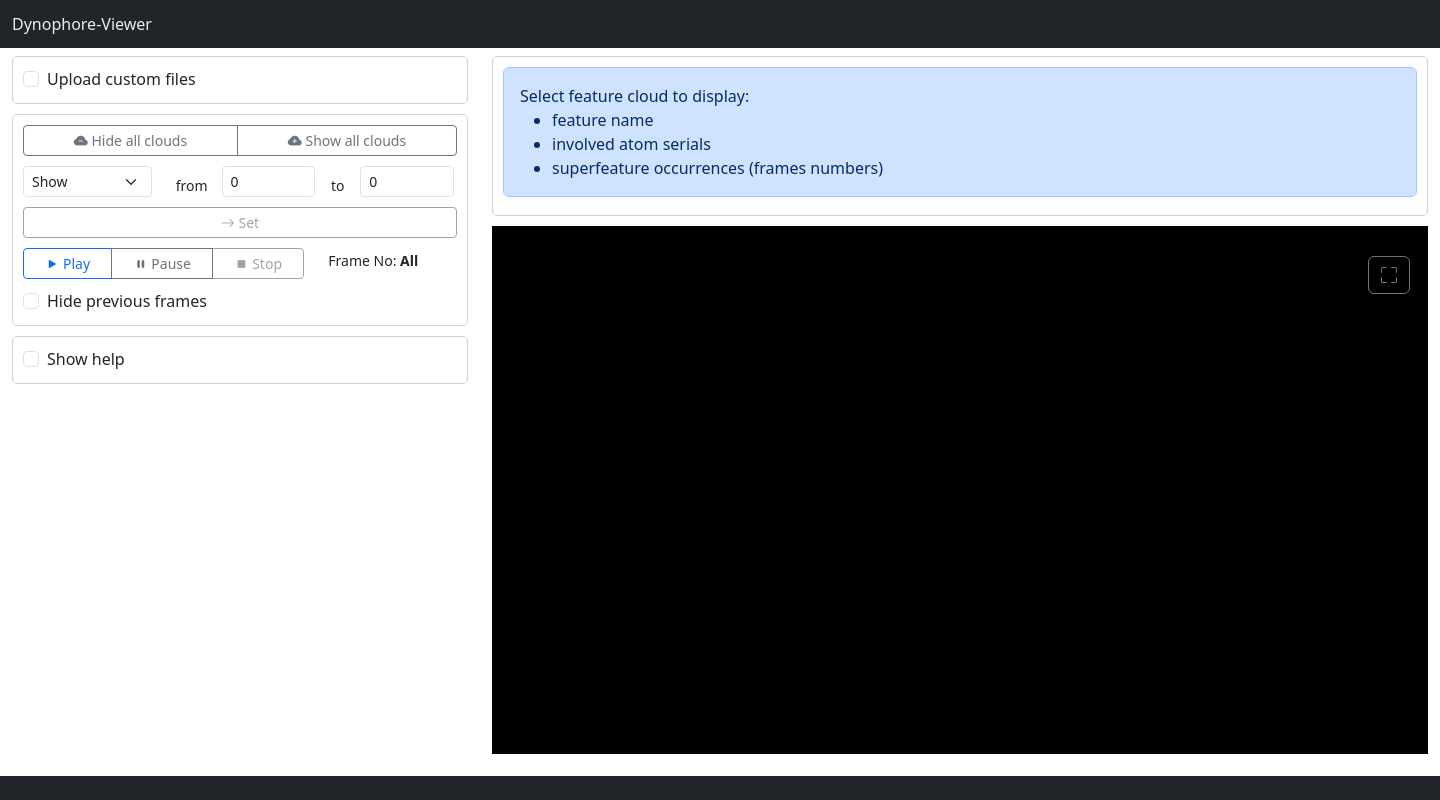
Test: Tests of Display actions, buttons, menu and input group with different values › Should check the buttons Frame block
Step 1. Click the button titled "Play" → (68, 264), box 23,248 -> 112,279
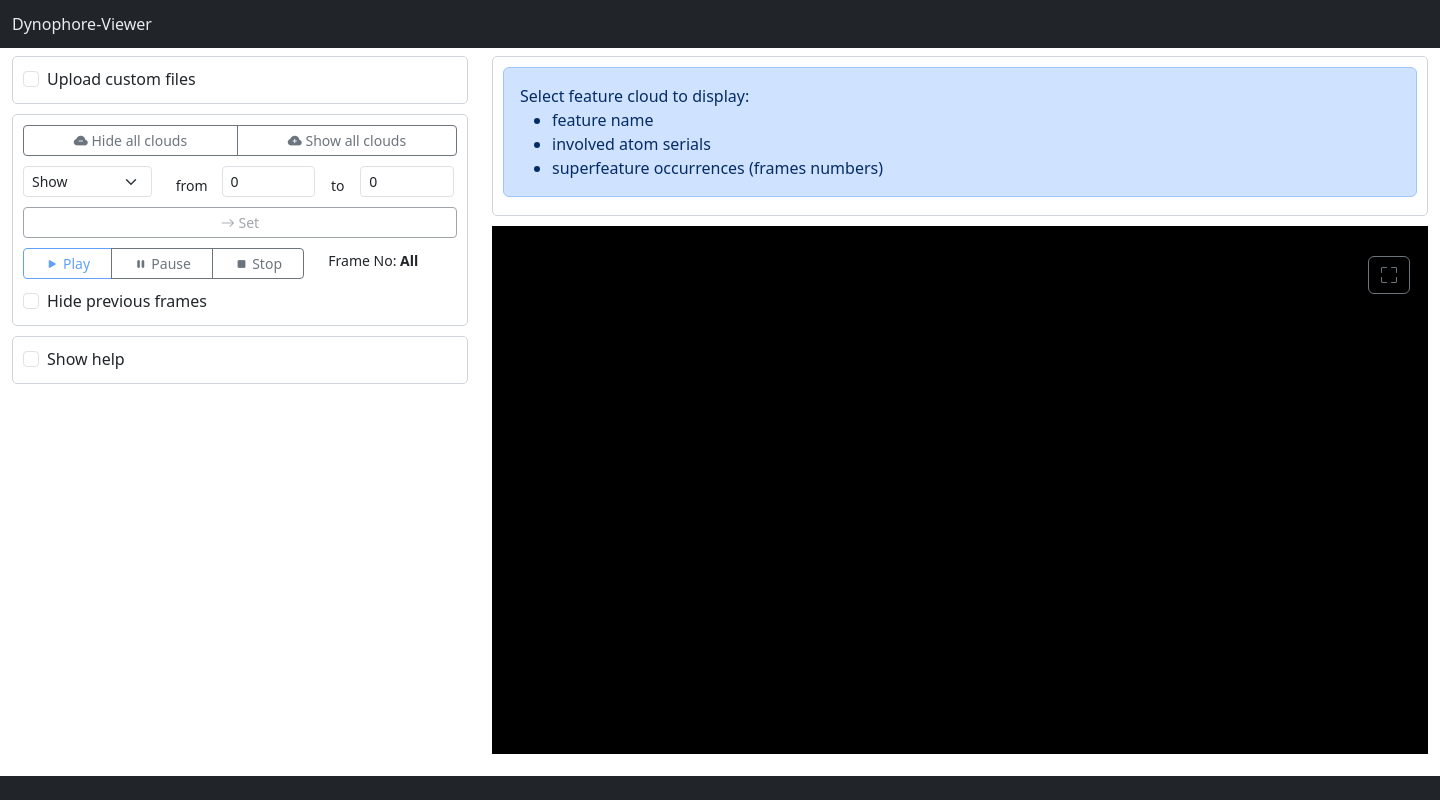
Expected: the button titled "Play" is disabled, 23,248 -> 112,279
Step 2. Click the button titled "Pause" → (162, 264), box 111,248 -> 213,279
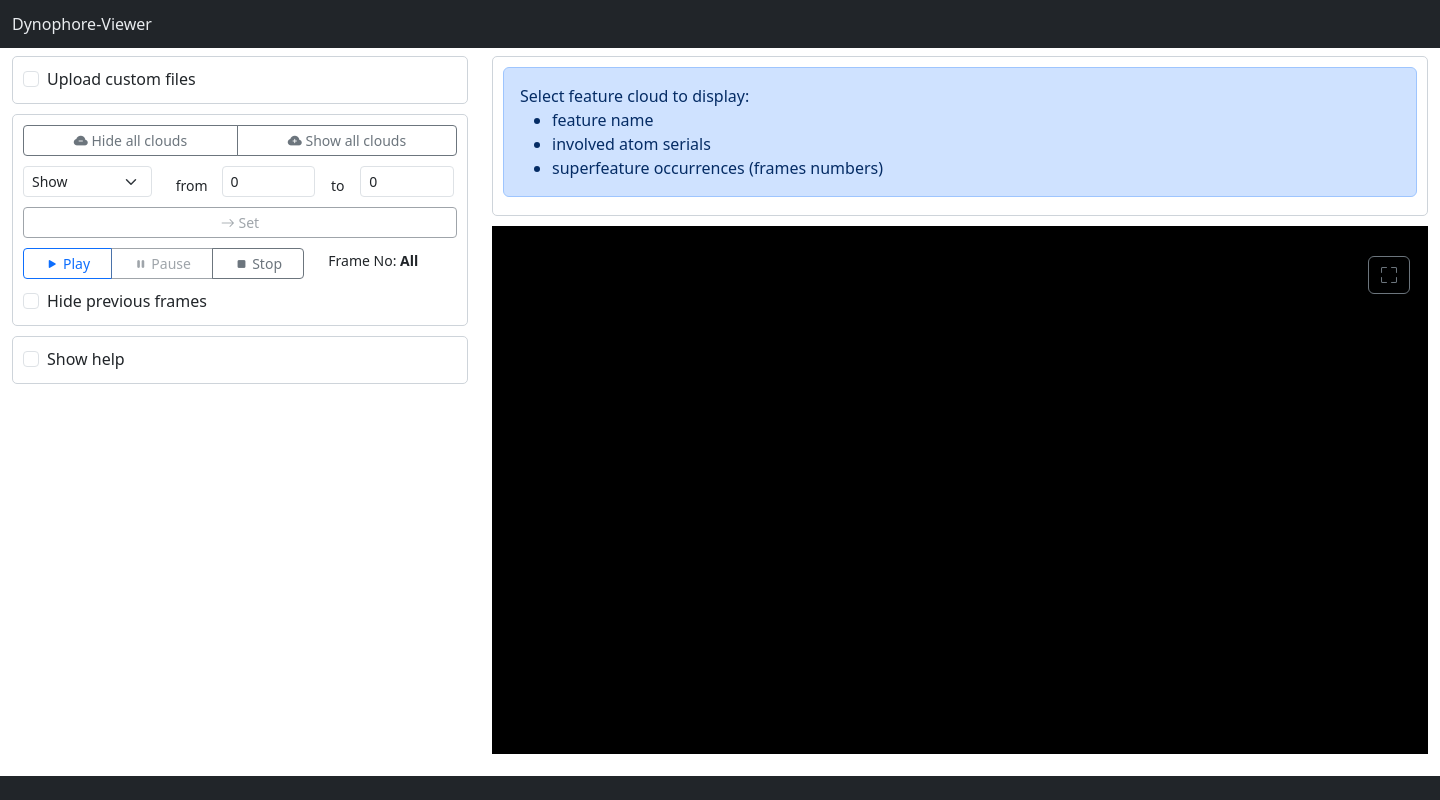
Expected: the button titled "Pause" is disabled, 111,248 -> 213,279
Step 3. Click the button titled "Stop" → (258, 264), box 212,248 -> 304,279
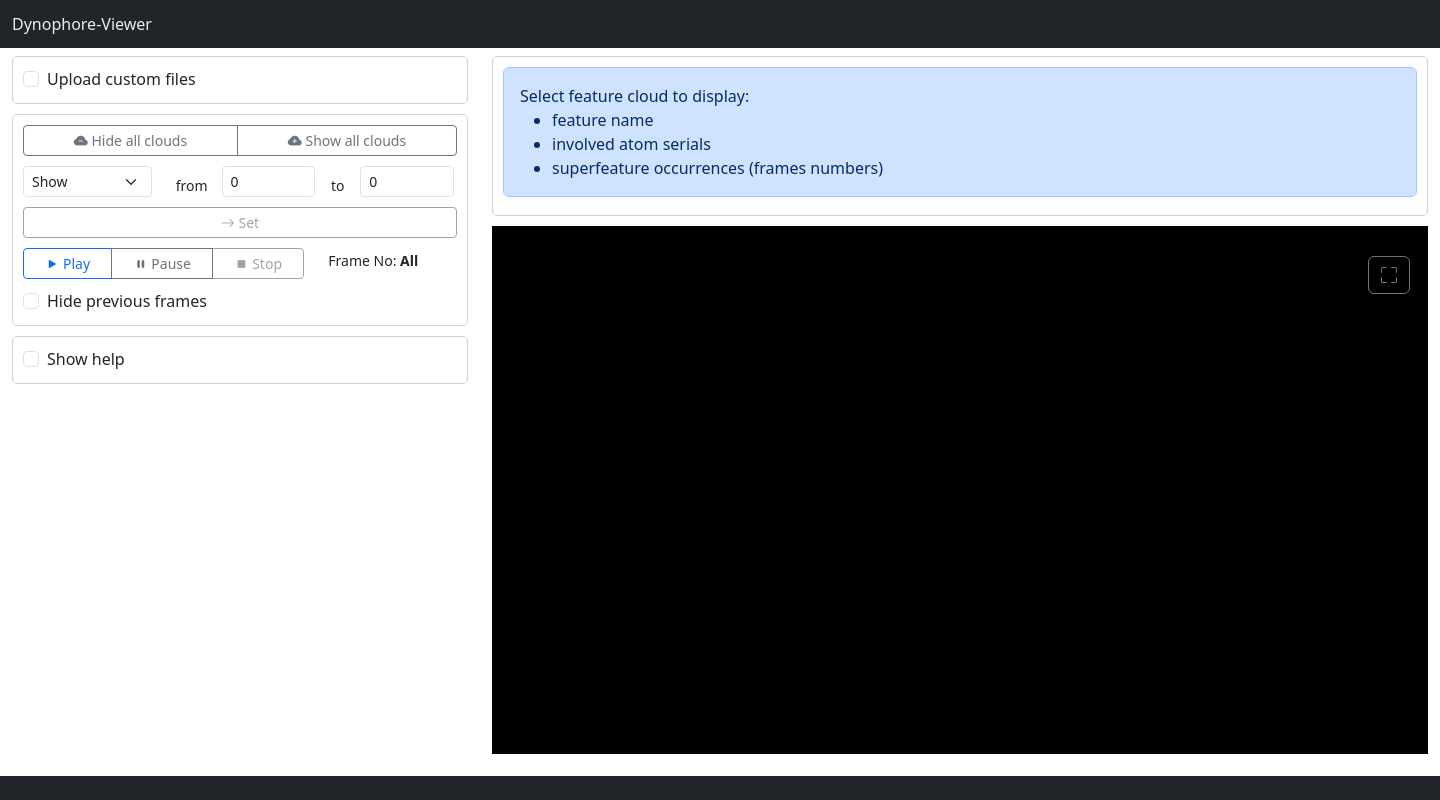
Expected: the button titled "Stop" is disabled, 212,248 -> 304,279
